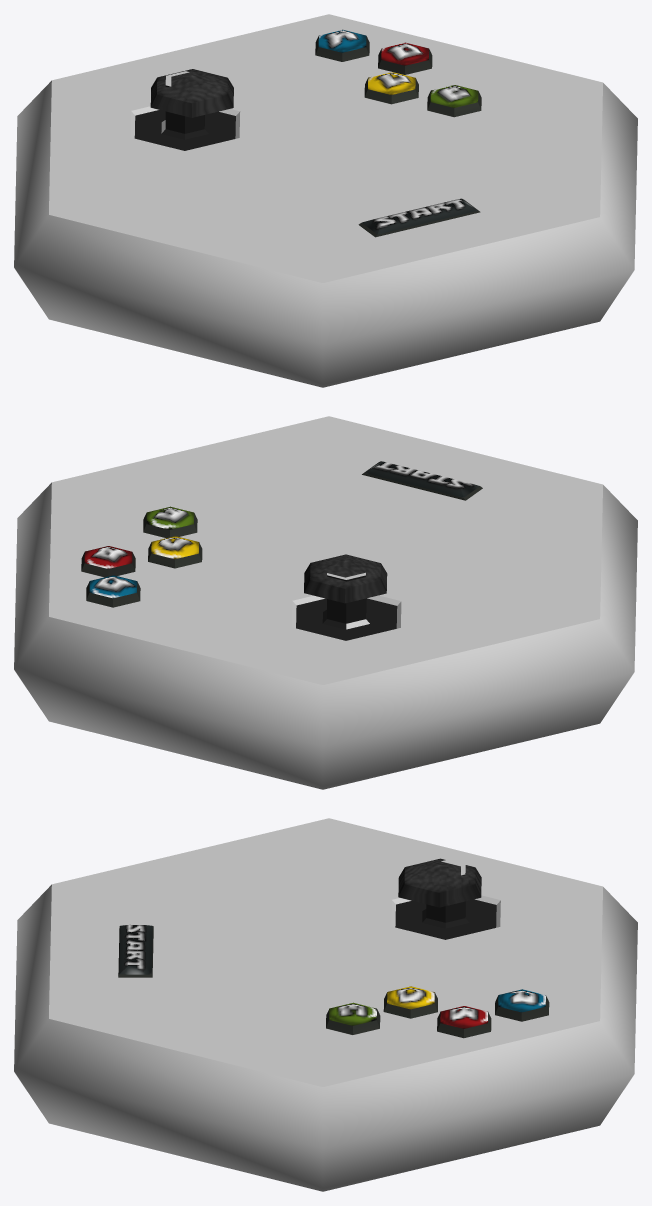
File: Controller_03.FBX
The picture shows the model from 3 angles, top to bottom: view 1: azimuth 30°, elevation 25°; view 2: azimuth 150°, elevation 25°; view 3: azimuth 270°, elevation 25°; orthographic projection.
Visible parts, largest first — view 1: Controller; view 2: Controller; view 3: Controller.
Boxes of the visible parts, bbox=[...] form: Controller: bbox=[14, 14, 637, 387]; Controller: bbox=[14, 416, 637, 789]; Controller: bbox=[14, 818, 637, 1191].
Bounding box in the file's own units: 27.96 × 6.66 × 24.34.
